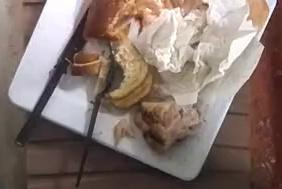bread_crust: (107, 37, 153, 108)
pizza_crust: (84, 0, 152, 40)
